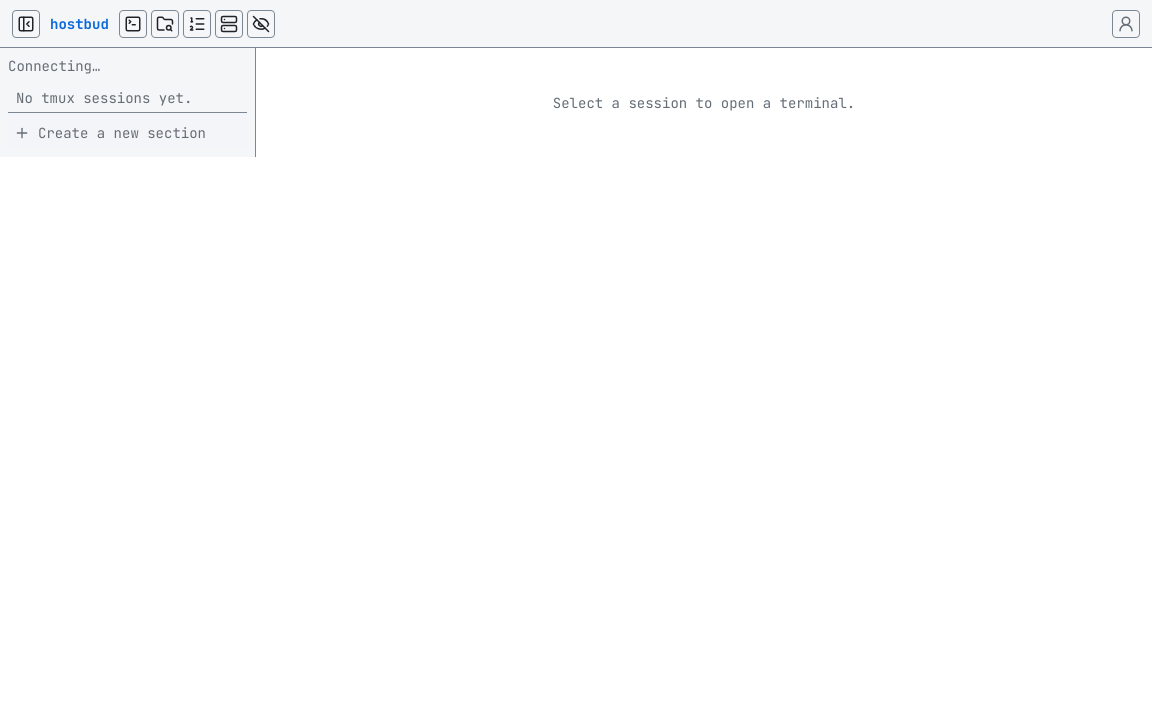
Scenario: App shell › opens the file browser in a dialog outside the project sidebar
Click the button named "Browse files": (165,24) [151,10,179,38]
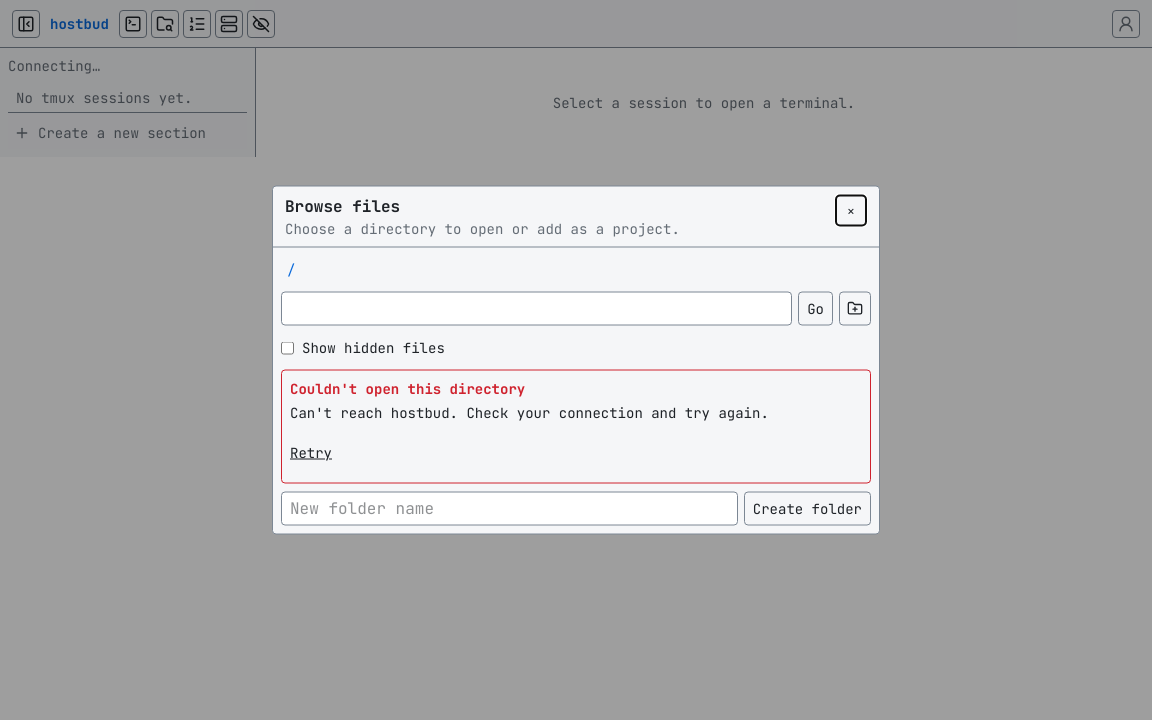
Expected: the dialog is shown, [272,186,880,534]
Expected: the dialog shows "Browse files", [285,196,400,216]
Expected: the button named "Close file browser" is shown
Click the button named "Close file browser": (851,210) [835,194,867,226]
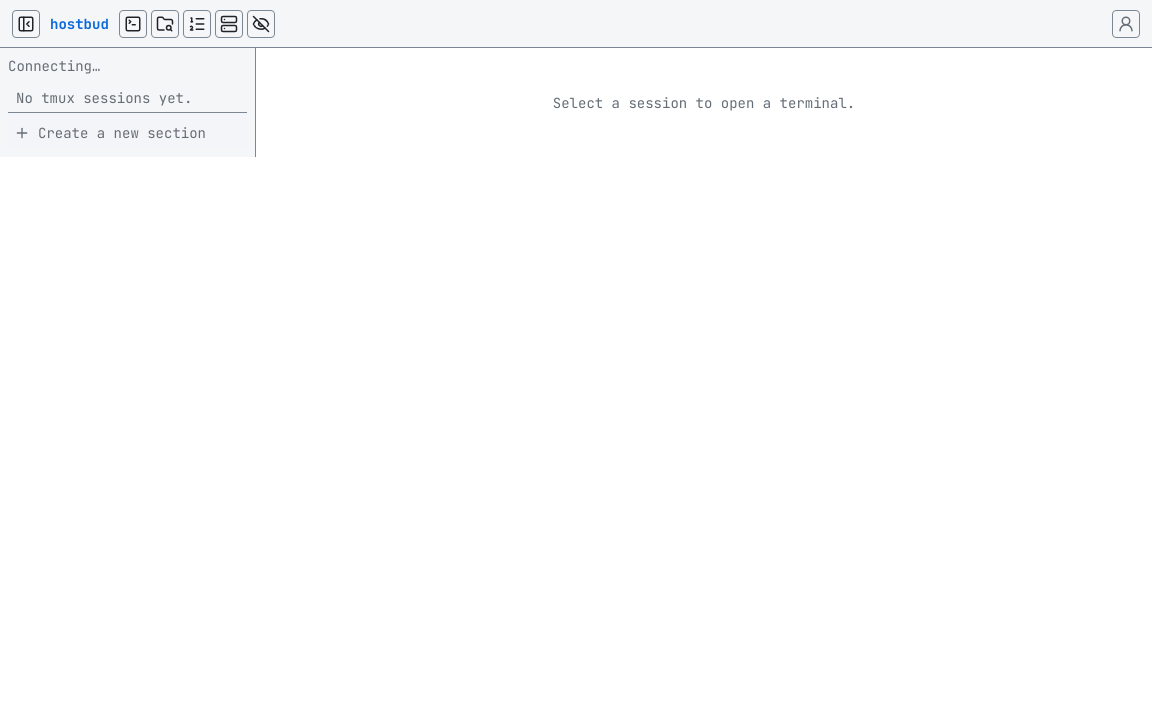
Expected: the dialog is gone
